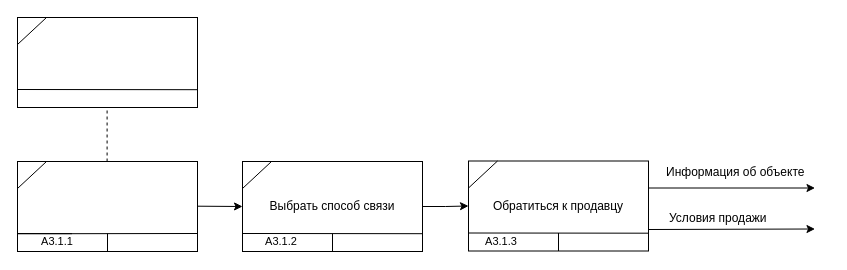
This 847x270 diagram has some shape labels left out. Here are the shapes that lost their labels. From the top down, the box of each, then its label:
(16, 16, 198, 108): Пользователь
(16, 160, 198, 252): Связь с продавцом
